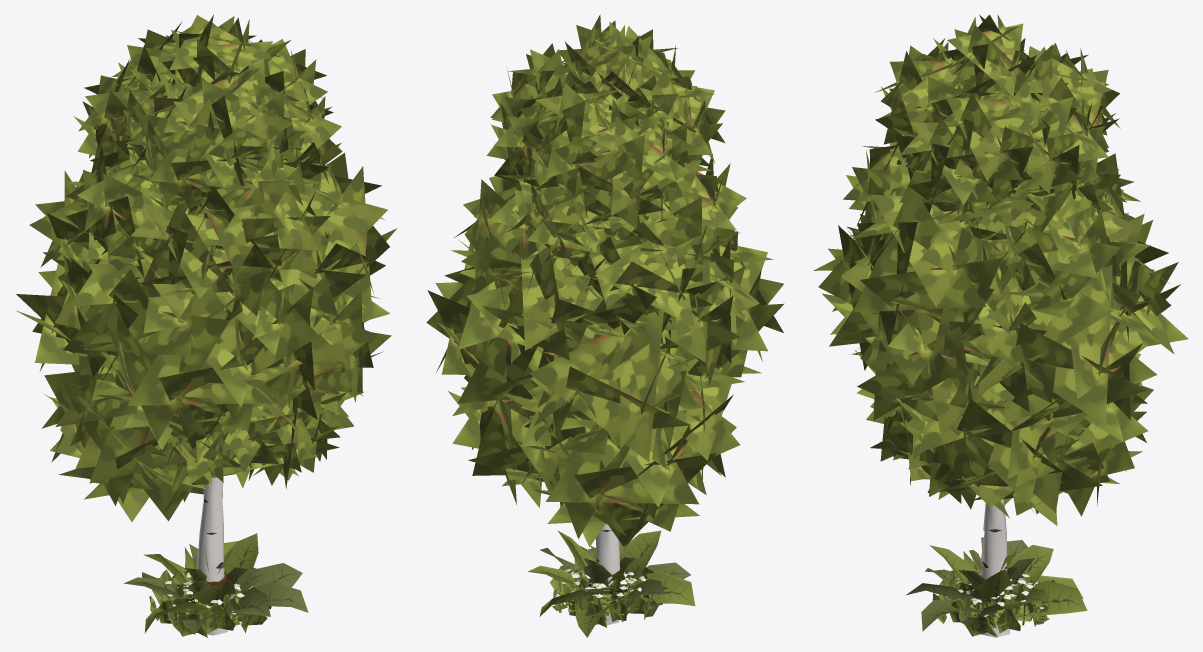
File: forest-details.glb
3 views of the same model, side by side, from view 1: azimuth 30°, elevation 25°; view 2: azimuth 150°, elevation 25°; view 3: azimuth 270°, elevation 25° (orthographic). The views are drawn at different scales.
Parts seen in each view (by area): view 1: Birch_Tree_1-mesh, Fern_1a-mesh, Forest_Grass_1-mesh, Woodruff_Cluster_1-mesh; view 2: Birch_Tree_1-mesh, Fern_1a-mesh, Forest_Grass_1-mesh, Woodruff_Cluster_1-mesh; view 3: Birch_Tree_1-mesh, Fern_1a-mesh, Forest_Grass_1-mesh, Woodruff_Cluster_1-mesh.
Part boxes in pixels (x1,y1,x2,y2): Birch_Tree_1-mesh: (16,14,397,635); Fern_1a-mesh: (123,533,308,634); Forest_Grass_1-mesh: (149,568,271,637); Woodruff_Cluster_1-mesh: (165,572,252,626); Birch_Tree_1-mesh: (426,14,784,625); Fern_1a-mesh: (527,530,695,637); Forest_Grass_1-mesh: (549,563,668,627); Woodruff_Cluster_1-mesh: (552,569,657,615); Birch_Tree_1-mesh: (813,14,1188,637); Fern_1a-mesh: (906,537,1087,631); Forest_Grass_1-mesh: (932,566,1054,637); Woodruff_Cluster_1-mesh: (946,573,1049,630).
Size of the model in its own units: 4.75 by 9.52 by 5.27.
2 materials, 2 textured.
